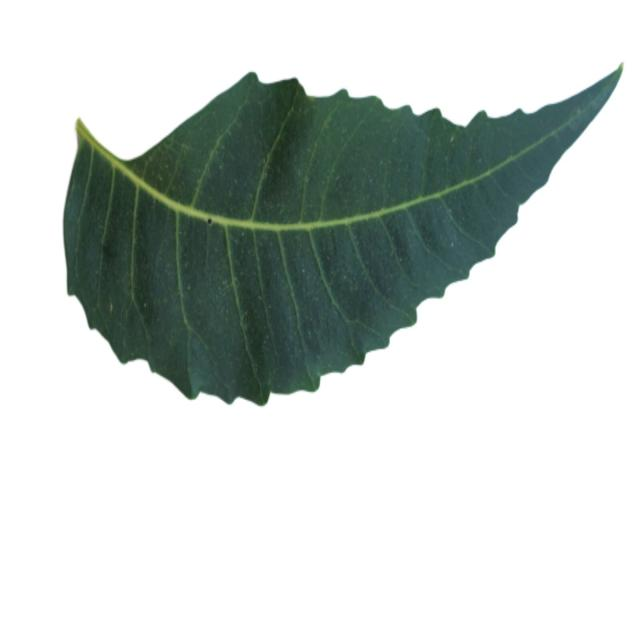Medicinal-Neem: (65, 58, 618, 406)
